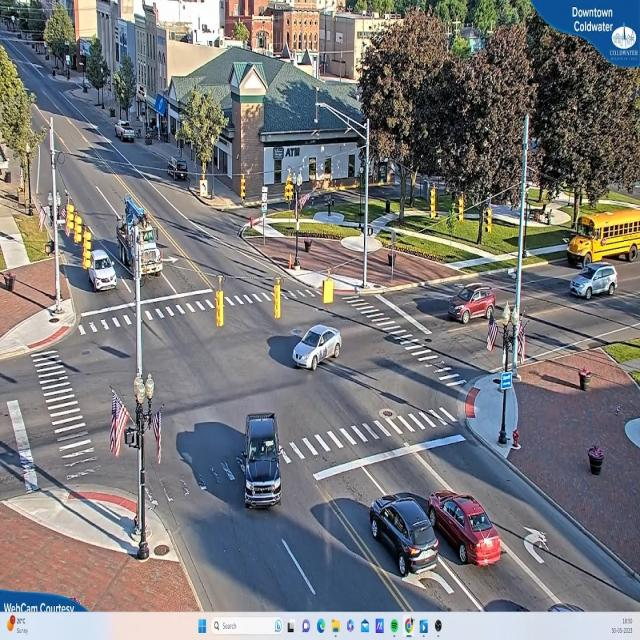bus: (569, 207, 640, 267)
car: (368, 494, 442, 580), (426, 491, 506, 568), (238, 414, 282, 508), (271, 323, 342, 370), (449, 287, 499, 325), (568, 264, 617, 298), (85, 246, 118, 295), (118, 120, 138, 143)
truck: (115, 198, 165, 282)
